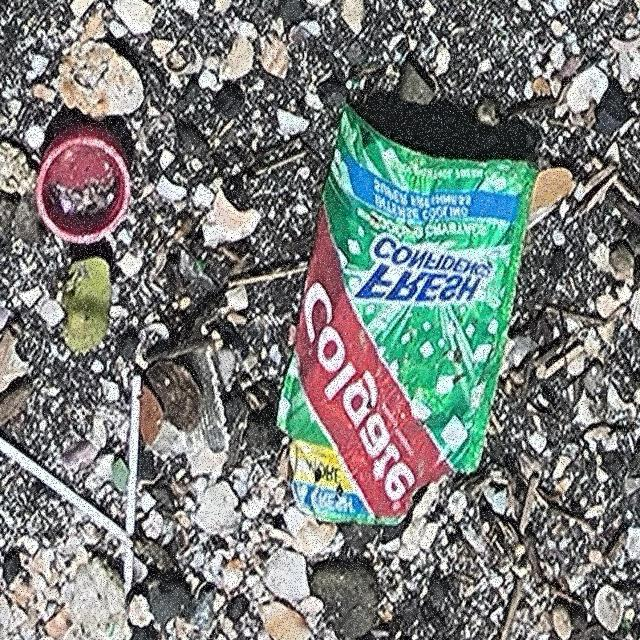plastic_waste: (278, 106, 541, 523), (1, 440, 135, 551), (36, 124, 134, 245), (124, 376, 142, 593)
